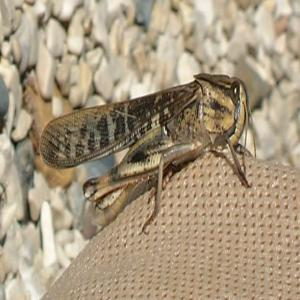locust: (46, 32, 272, 235)
